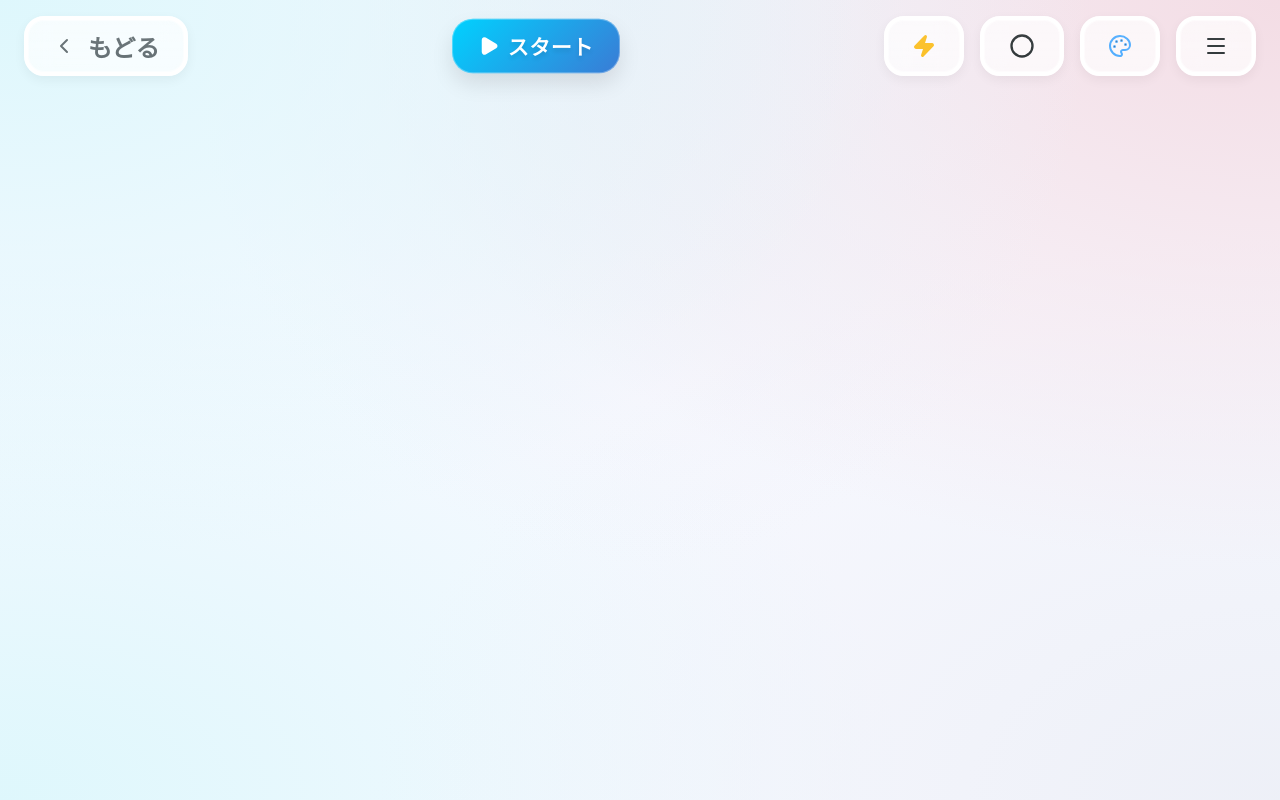
Test: MainTimerView Integration › should restore all tasks when timer is stopped
Click the button "スタート": (536, 46) [452,19,620,73]
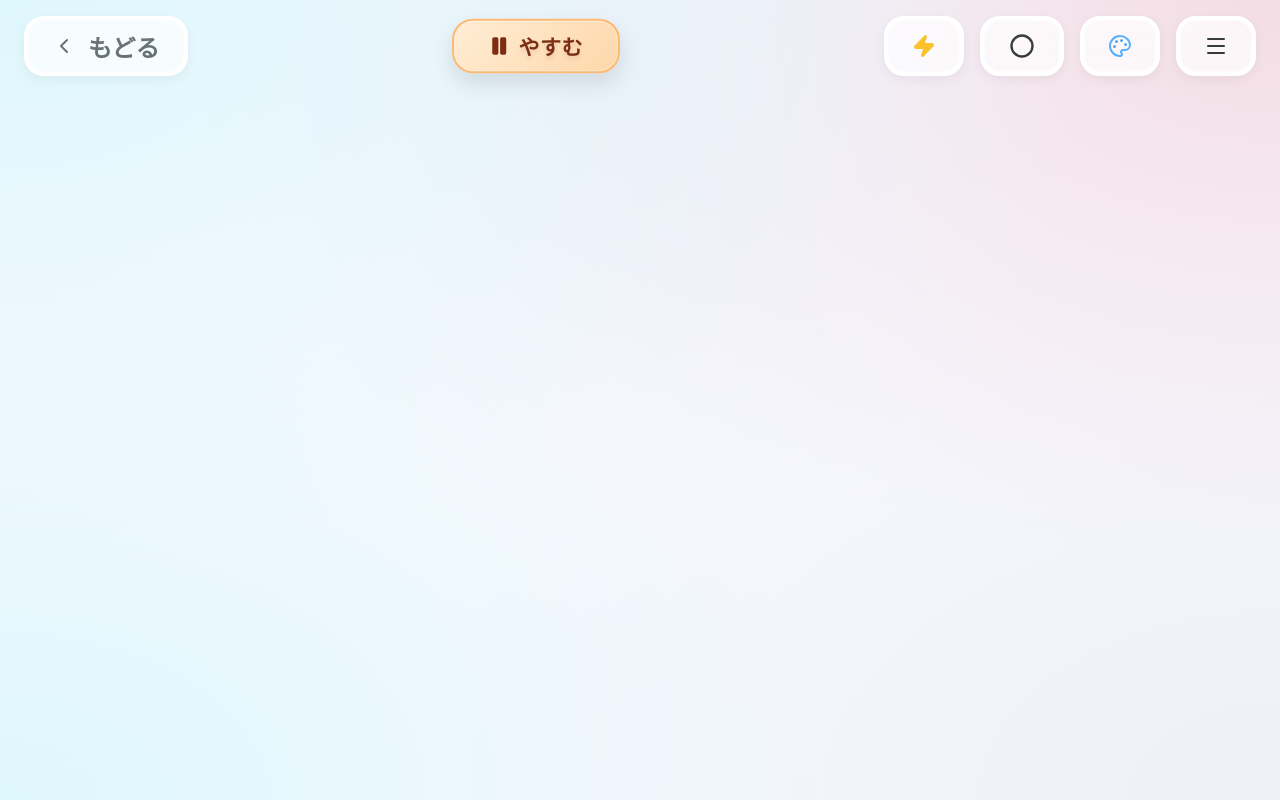
expect the text "Task 2" is not shown: met
Click the button "やすむ": (536, 46) [452,19,620,73]
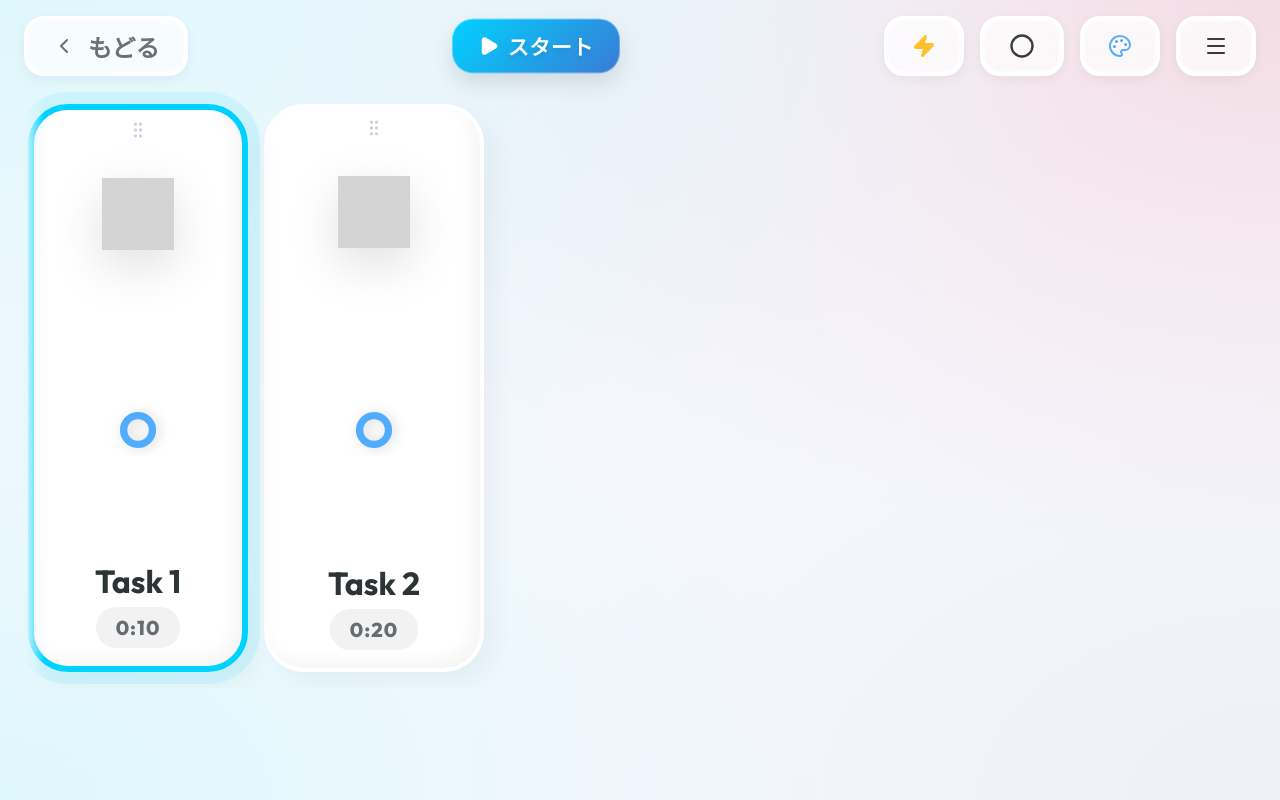
expect the text "Task 1" is shown: met, box [95,565,181,597]
expect the text "Task 2" is shown: met, box [328,567,420,599]
